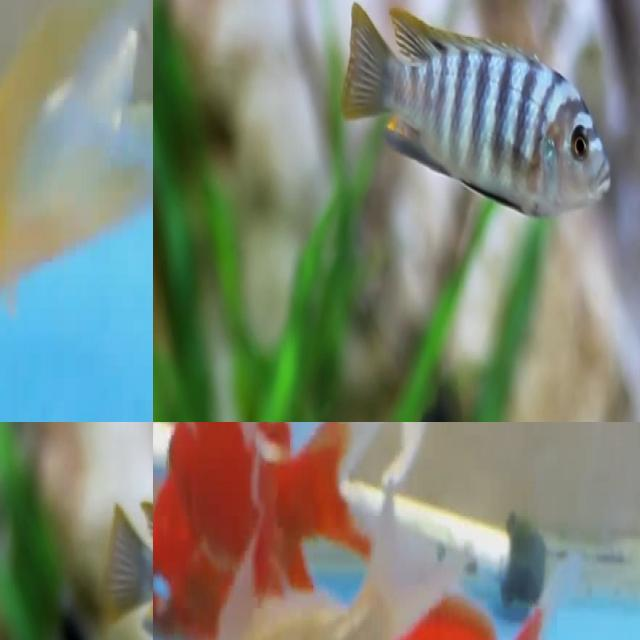fish: (0, 0, 153, 422), (408, 370, 576, 422)
